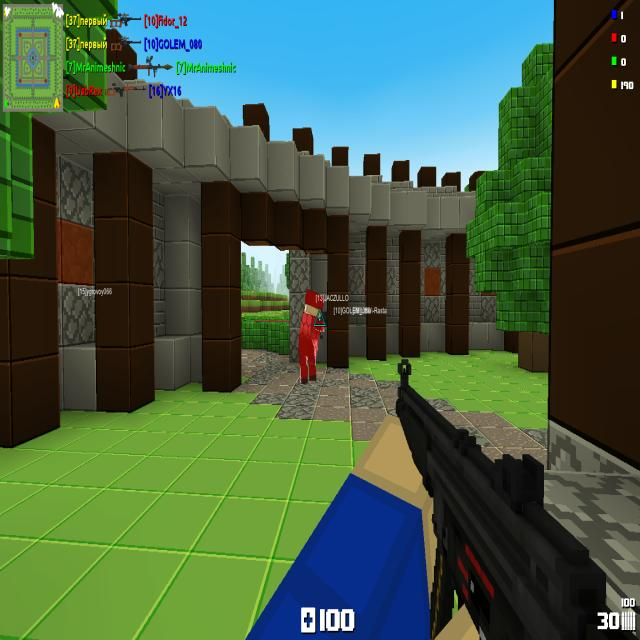enemy: (298, 290, 324, 385)
